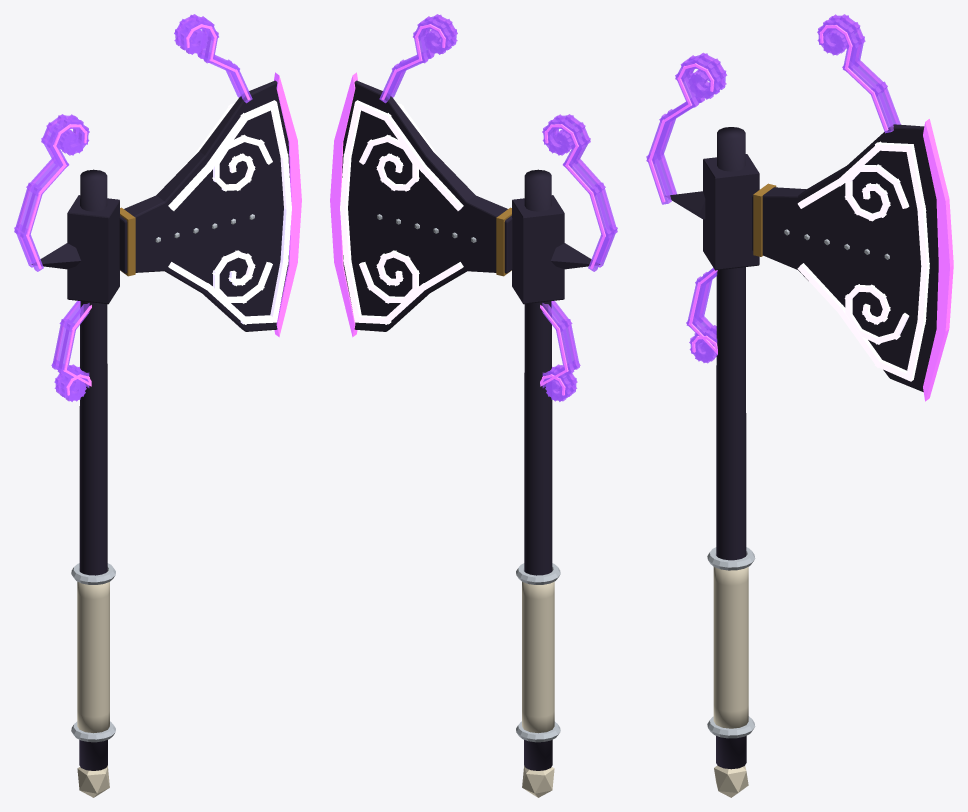
Rendered from duskwarden.glb.
3 views of the same model, side by side, from view 1: azimuth 30°, elevation 25°; view 2: azimuth 150°, elevation 25°; view 3: azimuth 330°, elevation 25° (orthographic). The views are drawn at different scales.
Parts seen in each view (by area): view 1: AX12_Blade, AX12_Haft, AX12_Grip, AX12_Socket, AX12_Edge, AX12_Pommel, AX12_Poll, AX12_BrassBand, AX12_Border-1_1, AX12_Band1; view 2: AX12_Blade, AX12_Haft, AX12_Grip, AX12_Socket, AX12_Edge, AX12_Pommel, AX12_Poll, AX12_BrassBand, AX12_Border1_1, AX12_Band1, AX12_Border1_6; view 3: AX12_Blade, AX12_Haft, AX12_Grip, AX12_Socket, AX12_Edge, AX12_Pommel, AX12_BrassBand, AX12_Poll, AX12_Band1, AX12_Border-1_3, AX12_Border-1_4, AX12_Border-1_9 (+1 smaller).
Part boxes in pixels (x1,y1,x2,y2): AX12_Blade: (119,80,289,331); AX12_Haft: (79,169,107,770); AX12_Grip: (77,581,109,733); AX12_Socket: (67,195,119,304); AX12_Edge: (274,72,301,337); AX12_Pommel: (77,766,109,797); AX12_Poll: (31,243,80,269); AX12_BrassBand: (120,207,135,276); AX12_Border-1_1: (206,113,249,172); AX12_Band1: (71,563,115,584); AX12_Blade: (342,80,512,331); AX12_Haft: (524,169,552,770); AX12_Grip: (522,581,554,733); AX12_Socket: (512,195,564,304); AX12_Edge: (330,72,357,337); AX12_Pommel: (522,766,554,797); AX12_Poll: (551,243,600,269); AX12_BrassBand: (496,207,511,276); AX12_Border1_1: (382,113,425,172); AX12_Band1: (516,563,560,584); AX12_Border1_6: (343,259,361,322); AX12_Blade: (752,124,938,391); AX12_Haft: (716,127,746,769); AX12_Grip: (713,567,748,728); AX12_Socket: (703,154,759,270); AX12_Edge: (923,119,953,401); AX12_Pommel: (714,765,748,797); AX12_BrassBand: (753,183,776,256); AX12_Poll: (666,191,705,219); AX12_Band1: (707,547,755,570); AX12_Border-1_3: (906,144,926,213); AX12_Border-1_4: (917,205,929,270); AX12_Border-1_9: (797,263,845,314).
Bounding box in the file's own units: 0.6753 × 1.73 × 0.1257.
